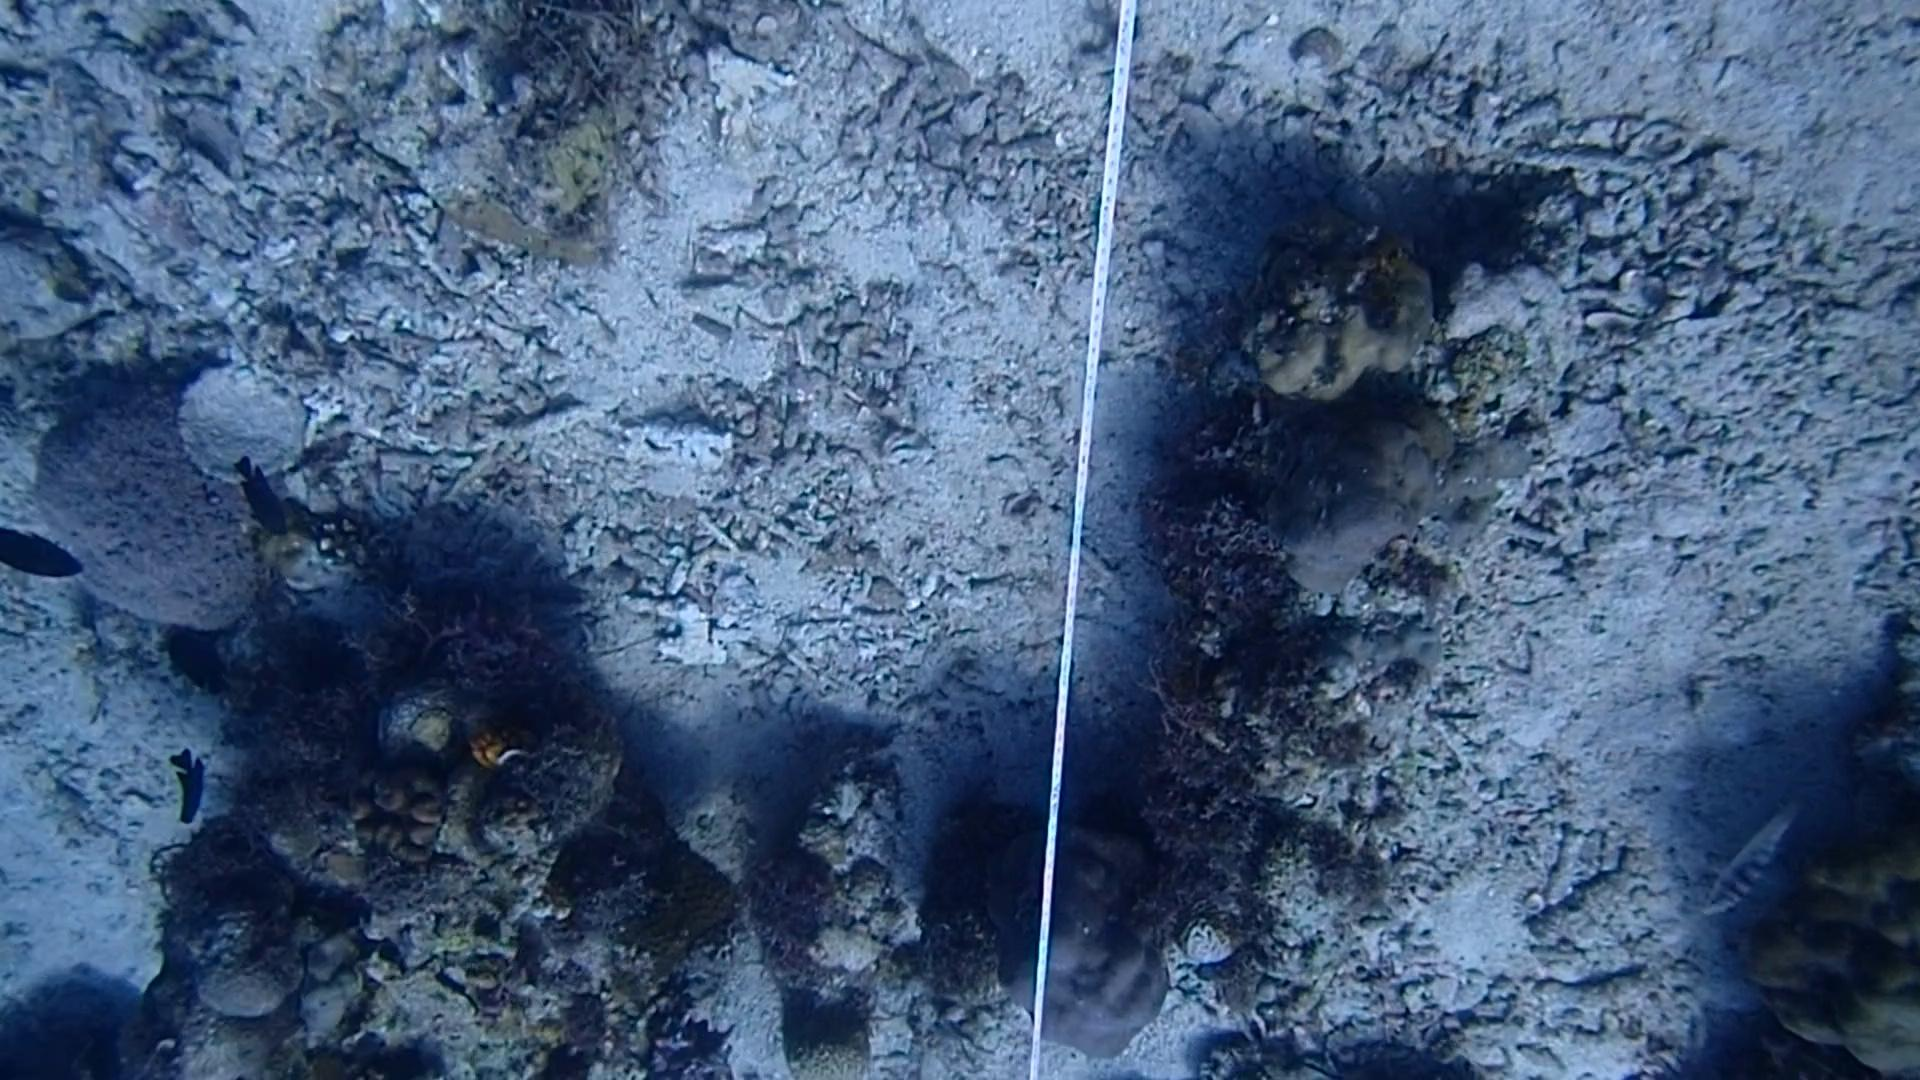Dark Fish: (157, 625, 241, 725), (0, 510, 91, 593), (224, 451, 299, 545), (161, 742, 225, 836)
Light Fish w Back Stripes: (1689, 806, 1815, 934)
